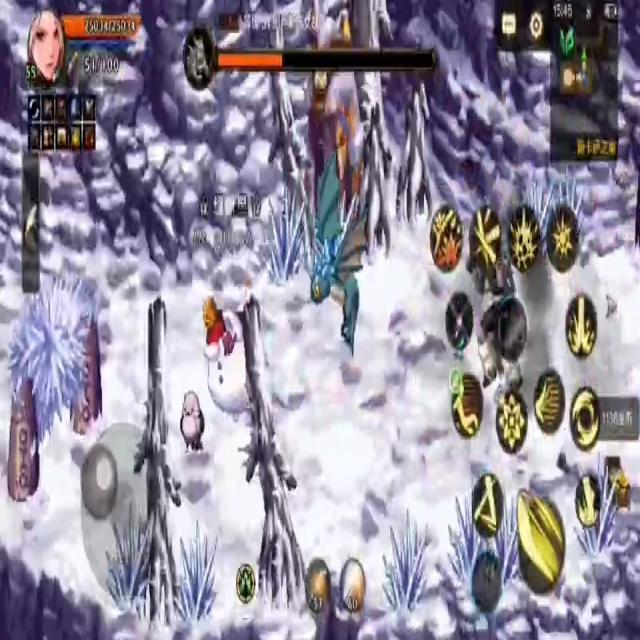player: (204, 291, 254, 435)
